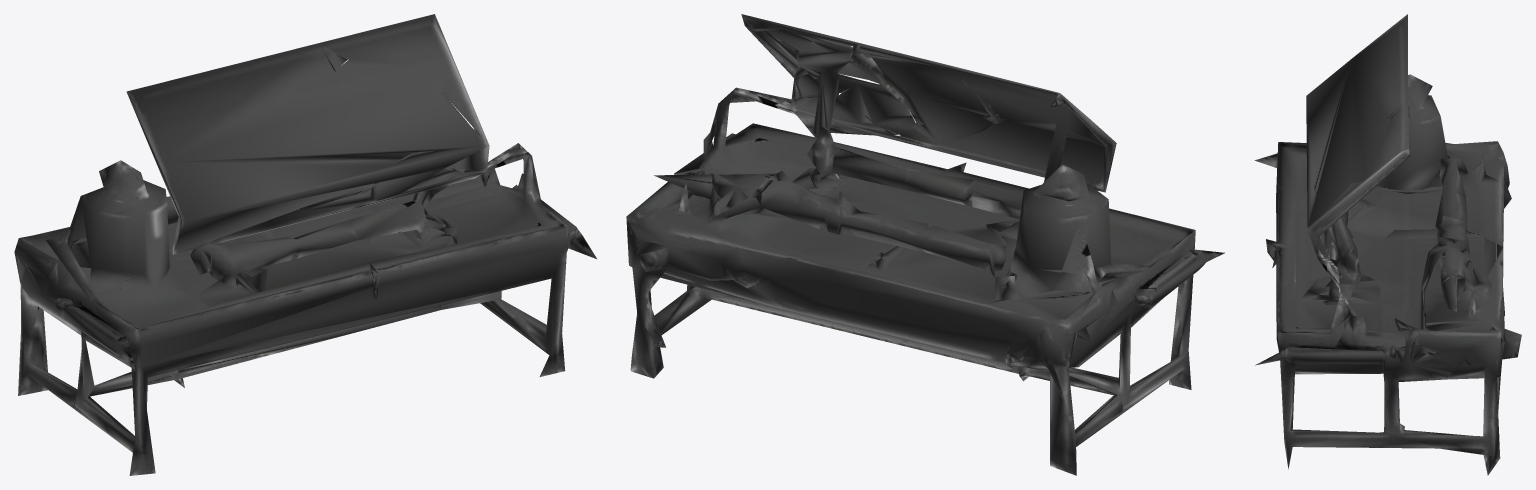
The model's file is reforger.glb.
3 renders of one model, left to right at view 1: azimuth 30°, elevation 25°; view 2: azimuth 150°, elevation 25°; view 3: azimuth 270°, elevation 25°, orthographic. The views are drawn at different scales.
Parts seen in each view (by area): view 1: Model; view 2: Model; view 3: Model.
Boxes of the visible parts, <box> form: Model: <box>14,14,596,475</box>; Model: <box>626,14,1224,475</box>; Model: <box>1254,14,1521,475</box>.
Size of the model in its own units: 1.57 by 1.06 by 0.8597.
1 material, 1 textured.
